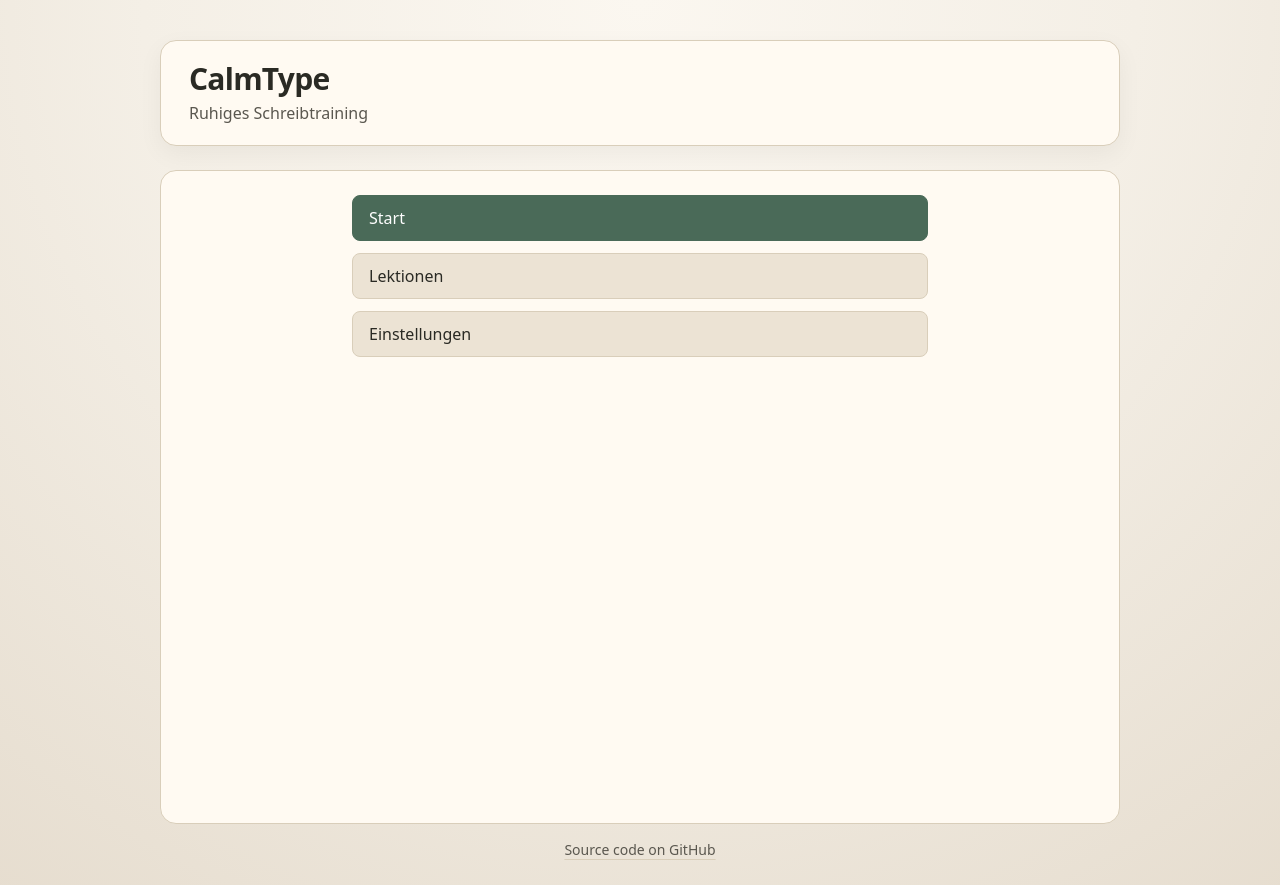
Test: App gentle input mode › forces finger hints off when keyboard hints are disabled
Click the button "Einstellungen". click: (420, 334)
box: [352,311,928,357]
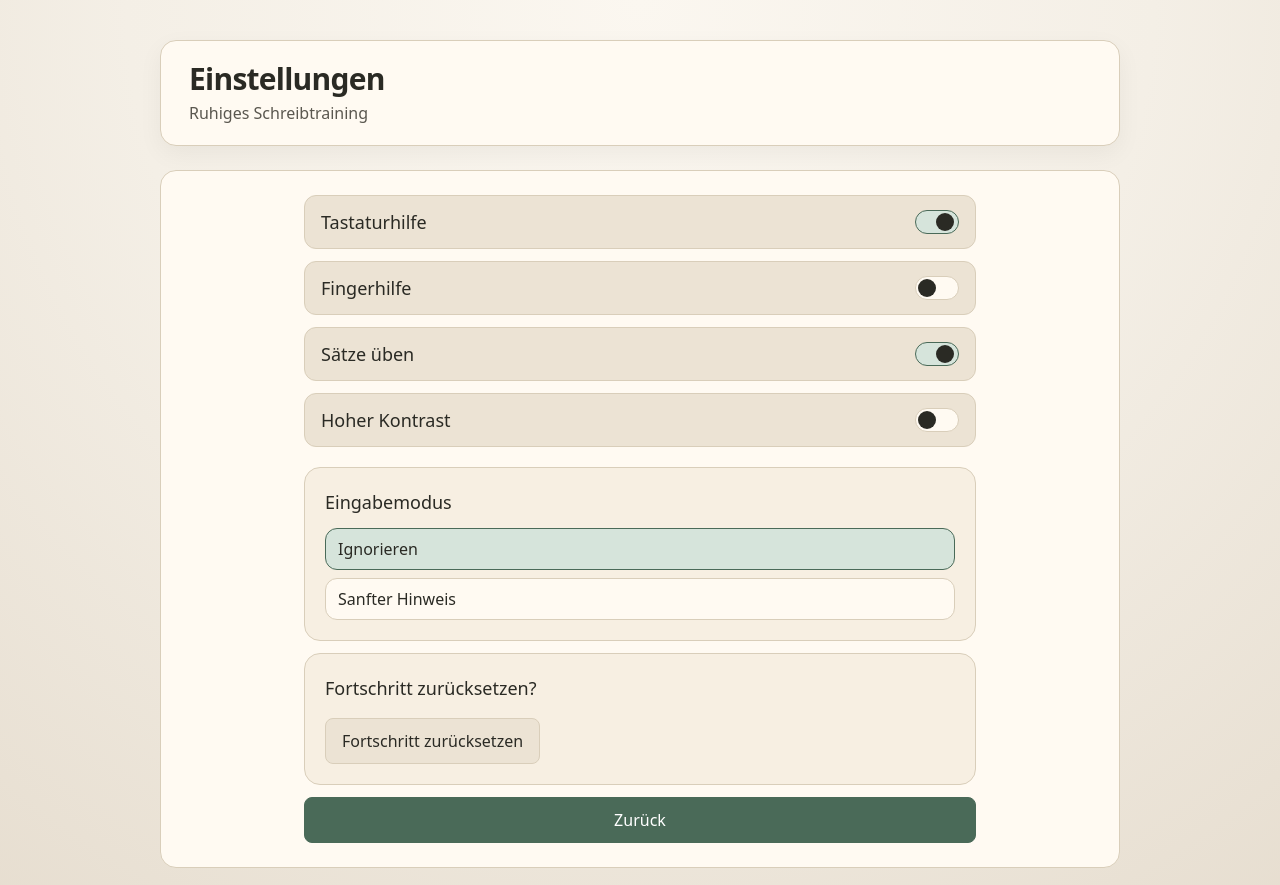
Click the button "Fingerhilfe". click: (366, 288)
box: [304,261,976,315]
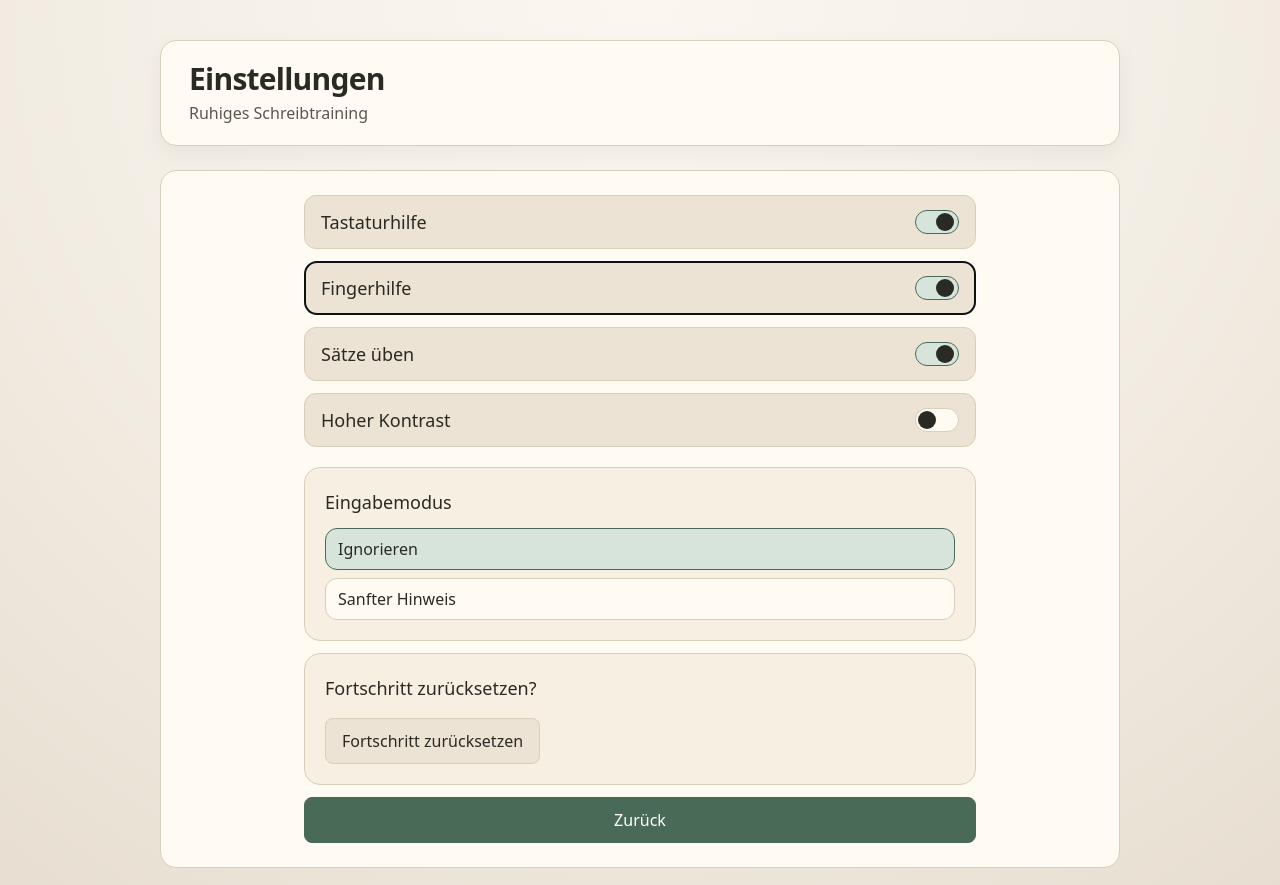
Click the button "Tastaturhilfe". click: (374, 222)
box: [304,195,976,249]
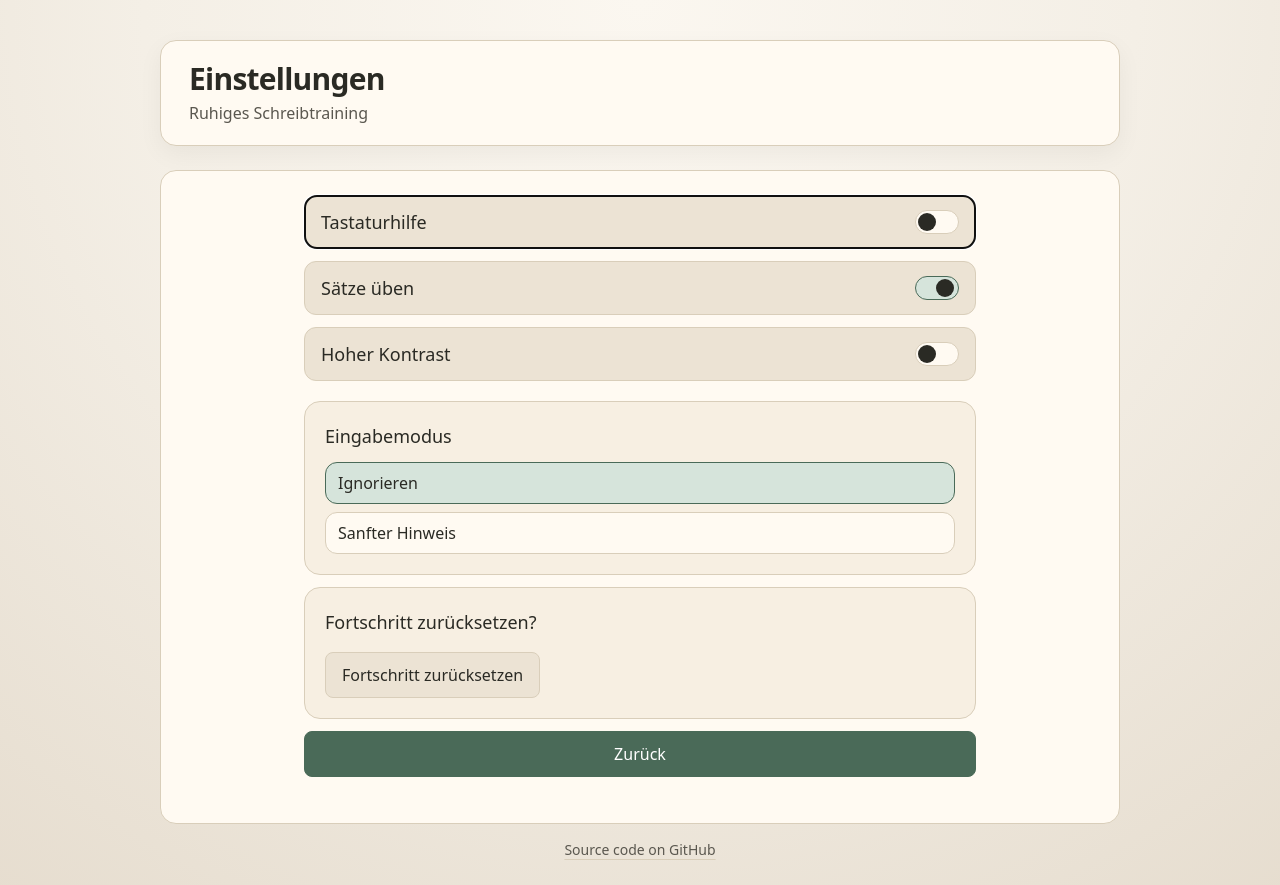
Expected: the button "Fingerhilfe" is gone
